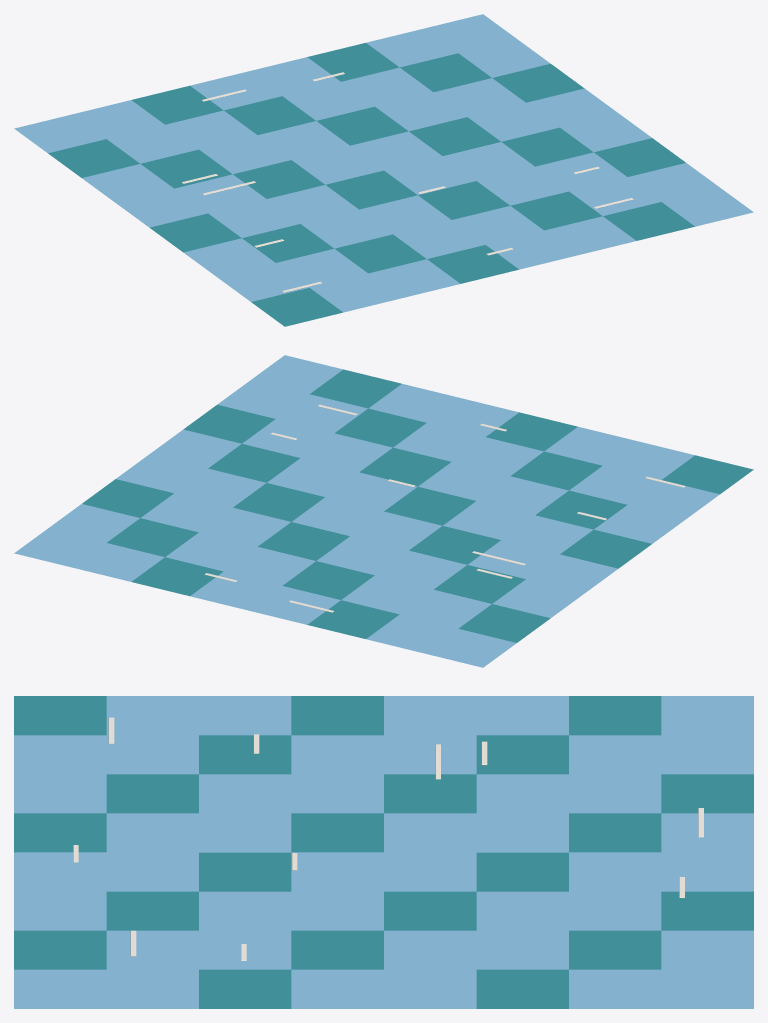
Rendered from land_sea.glb.
3 views of the same model, one above another, from view 1: azimuth 30°, elevation 25°; view 2: azimuth 150°, elevation 25°; view 3: azimuth 270°, elevation 25° (orthographic). The views are drawn at different scales.
Visible parts, largest first — view 1: land_sea; view 2: land_sea; view 3: land_sea.
Boxes of the visible parts, x1,y1,x2,y2 form: land_sea: (14,14,753,326); land_sea: (14,355,753,667); land_sea: (14,696,753,1008).
Bounding box in the file's own units: 40 × 0.0684 × 40.
1 material, 1 textured.
